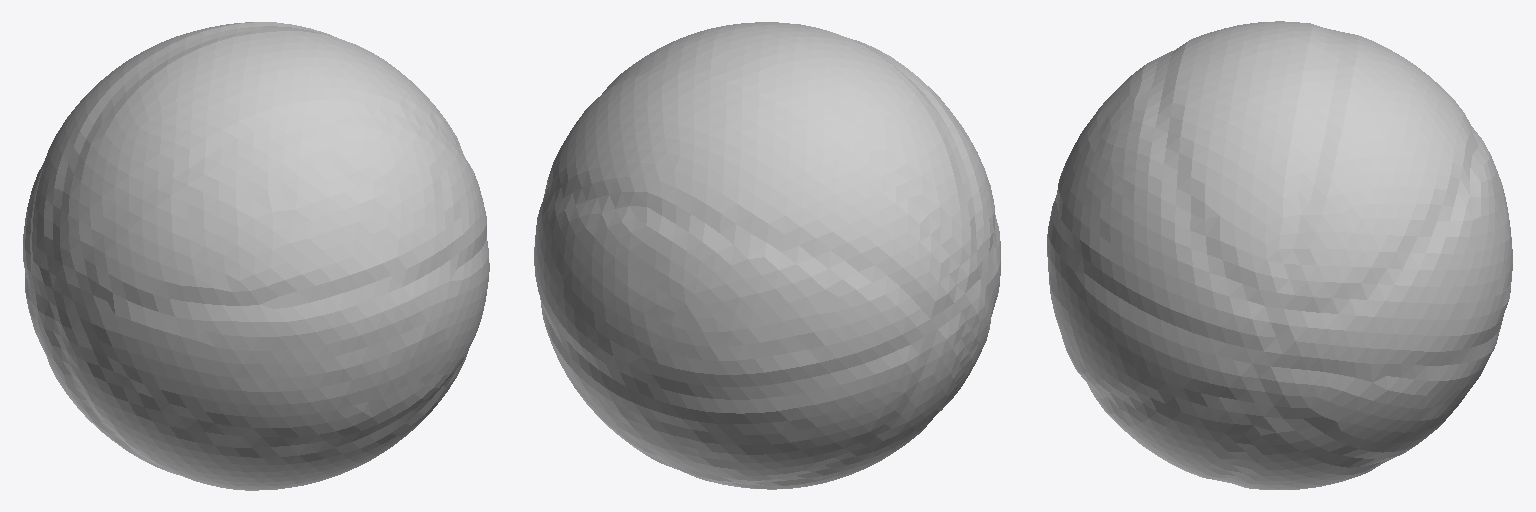
File: ball.obj
3 renders of one model, left to right at view 1: azimuth 30°, elevation 25°; view 2: azimuth 150°, elevation 25°; view 3: azimuth 270°, elevation 25°, orthographic.
Parts seen in each view (by area): view 1: Basketball_size6; view 2: Basketball_size6; view 3: Basketball_size6.
Part boxes in pixels (x1,y1,x2,y2): Basketball_size6: (23,22,489,490); Basketball_size6: (534,22,1000,489); Basketball_size6: (1047,21,1512,489).
Size of the model in its own units: 1 by 1 by 1.